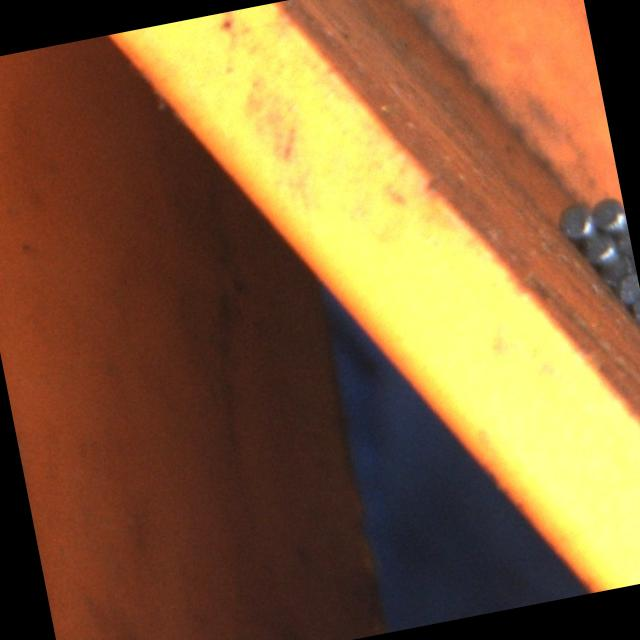tool: (557, 200, 595, 240), (590, 196, 628, 233), (581, 227, 618, 264), (595, 243, 631, 280), (613, 270, 640, 306), (614, 225, 633, 258), (627, 294, 640, 326)
